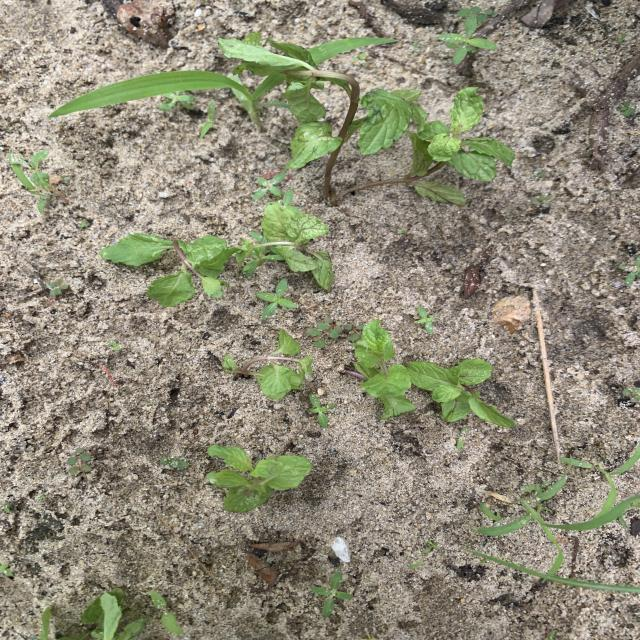crop: (219, 39, 514, 205), (340, 87, 513, 204), (347, 318, 515, 425), (100, 233, 238, 306), (234, 201, 331, 289), (207, 446, 311, 511), (223, 329, 312, 399), (34, 590, 145, 639), (286, 87, 304, 106)
weed: (476, 481, 639, 573), (50, 71, 287, 127), (267, 37, 396, 67), (10, 151, 68, 211), (596, 446, 639, 512), (438, 17, 496, 63), (311, 571, 351, 616), (259, 279, 295, 316), (150, 592, 182, 633), (307, 318, 348, 346), (252, 171, 287, 199), (310, 395, 334, 427), (159, 92, 194, 111), (67, 448, 91, 473), (618, 258, 639, 284), (200, 100, 214, 138), (415, 306, 435, 332), (48, 279, 68, 295), (560, 458, 591, 468), (160, 458, 187, 469), (622, 387, 639, 402), (422, 540, 439, 554), (620, 101, 635, 115), (1, 563, 14, 577), (347, 324, 359, 339), (457, 428, 465, 450), (533, 195, 550, 205), (408, 558, 423, 567), (108, 340, 119, 350), (617, 34, 626, 43), (1, 504, 11, 511)
